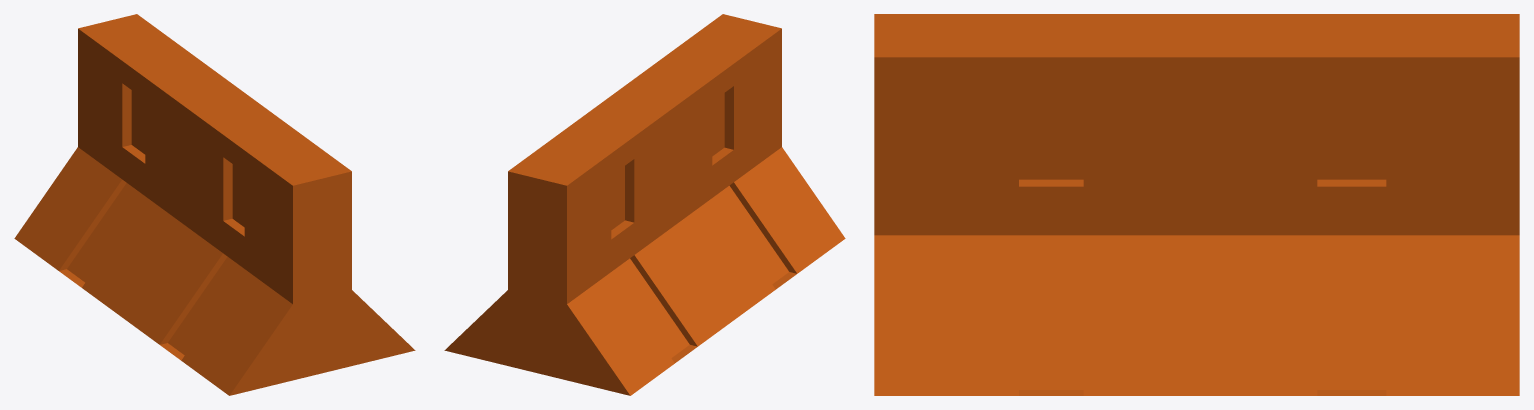
The model's file is trafic_barrier.fbx.
The picture shows the model from 3 angles, left to right: view 1: azimuth 30°, elevation 25°; view 2: azimuth 150°, elevation 25°; view 3: azimuth 270°, elevation 25°; orthographic projection. The views are drawn at different scales.
Parts seen in each view (by area): view 1: Barrier; view 2: Barrier; view 3: Barrier.
Boxes of the visible parts, x1,y1,x2,y2 form: Barrier: [14, 14, 415, 395]; Barrier: [444, 14, 845, 395]; Barrier: [874, 14, 1519, 395].
Size of the model in its own units: 100 by 100 by 200.
